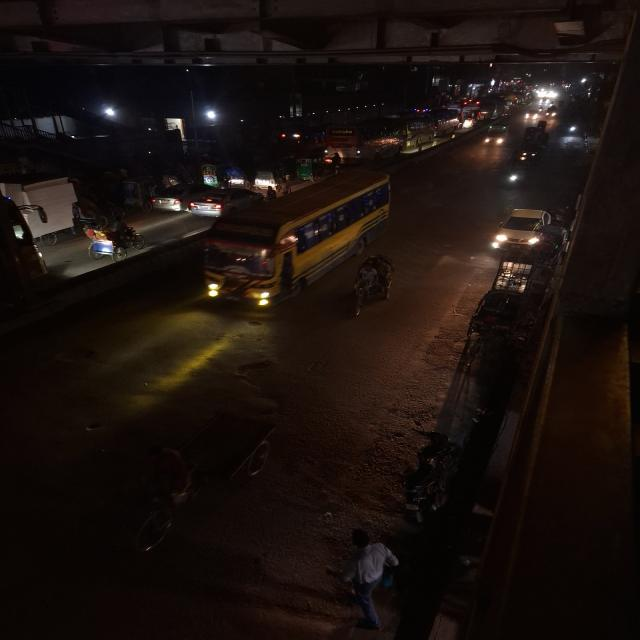bus: (188, 165, 414, 324), (320, 119, 400, 159), (397, 108, 459, 147)
car: (487, 203, 562, 263), (191, 189, 263, 217), (147, 193, 188, 216)
cng: (252, 162, 281, 190)
rickshaw: (458, 287, 526, 363), (79, 205, 153, 269), (344, 254, 402, 319), (225, 162, 252, 191), (294, 155, 320, 181), (198, 162, 219, 186)
truck: (482, 122, 512, 149)
